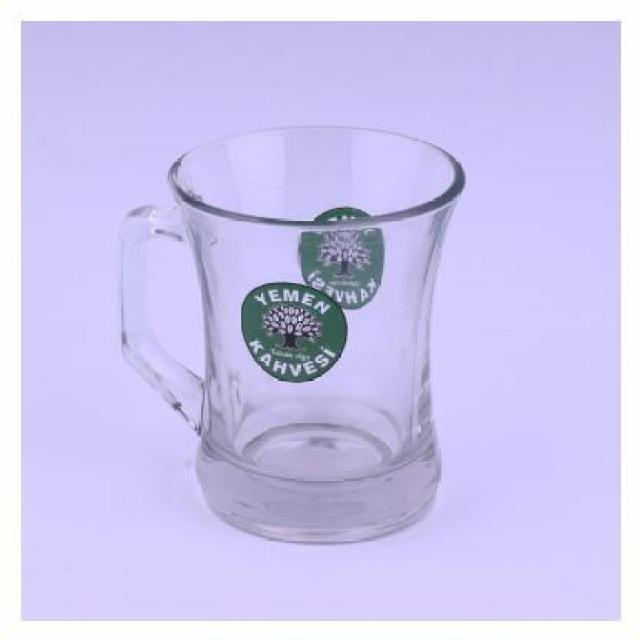taza: (29, 31, 602, 608)
